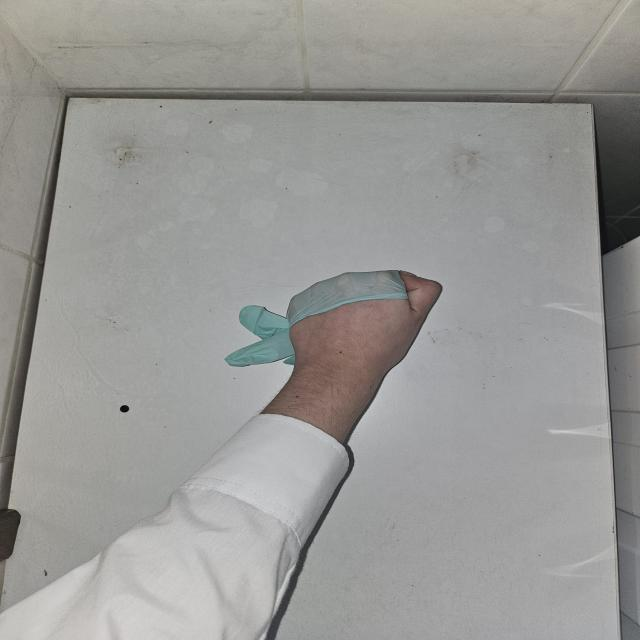glove_partial: (223, 268, 446, 370)
